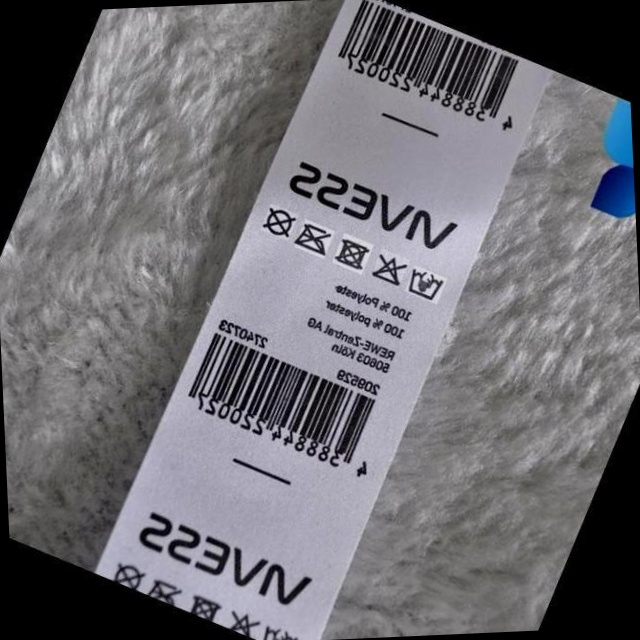DN_bleach: (367, 252, 405, 290)
DN_dry_clean: (262, 203, 296, 241)
DN_iron: (290, 221, 329, 259)
DN_tumble_dry: (333, 237, 369, 275)
hand_wash: (408, 264, 442, 302)
